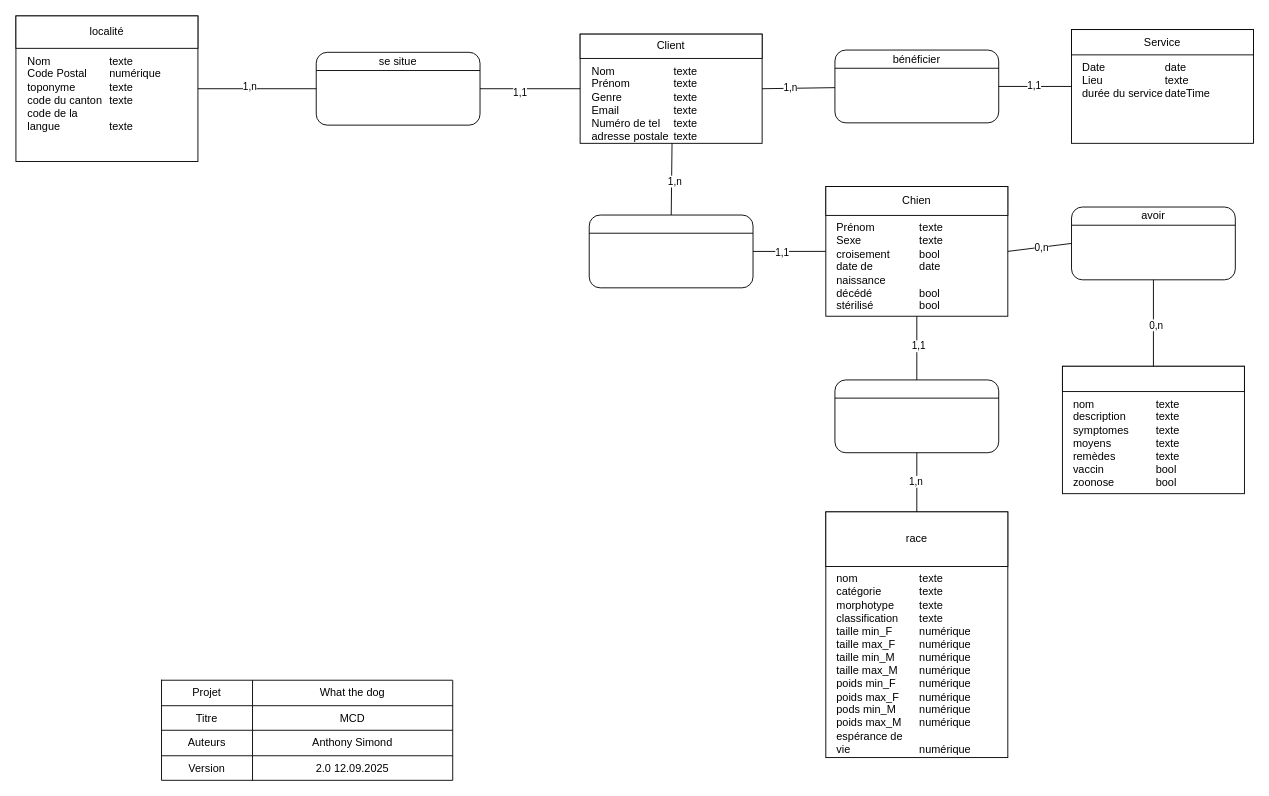
Some shapes in this 1269 by 796 pixel diagram are drawn without their labels. The centre of each missing label's shape, as x and y in pixels:
"Maladie" belongs at [1153,378].
"possède" belongs at [670,251].
"être" belongs at [916,416].
